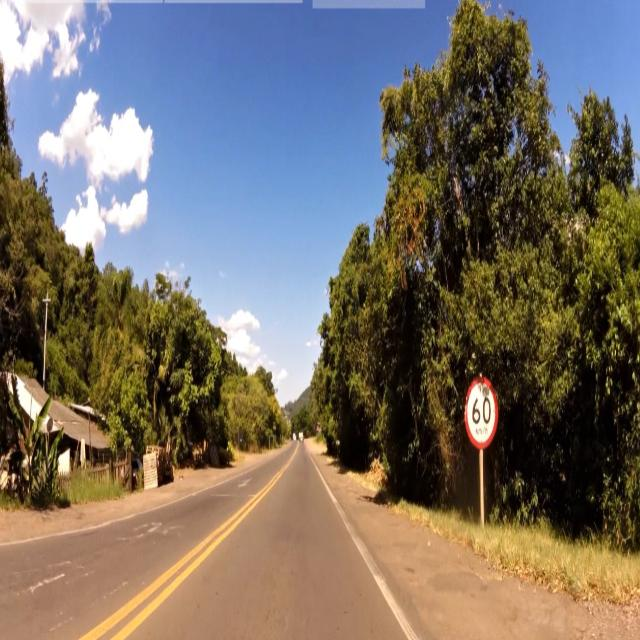R-19: (464, 372, 500, 452)
